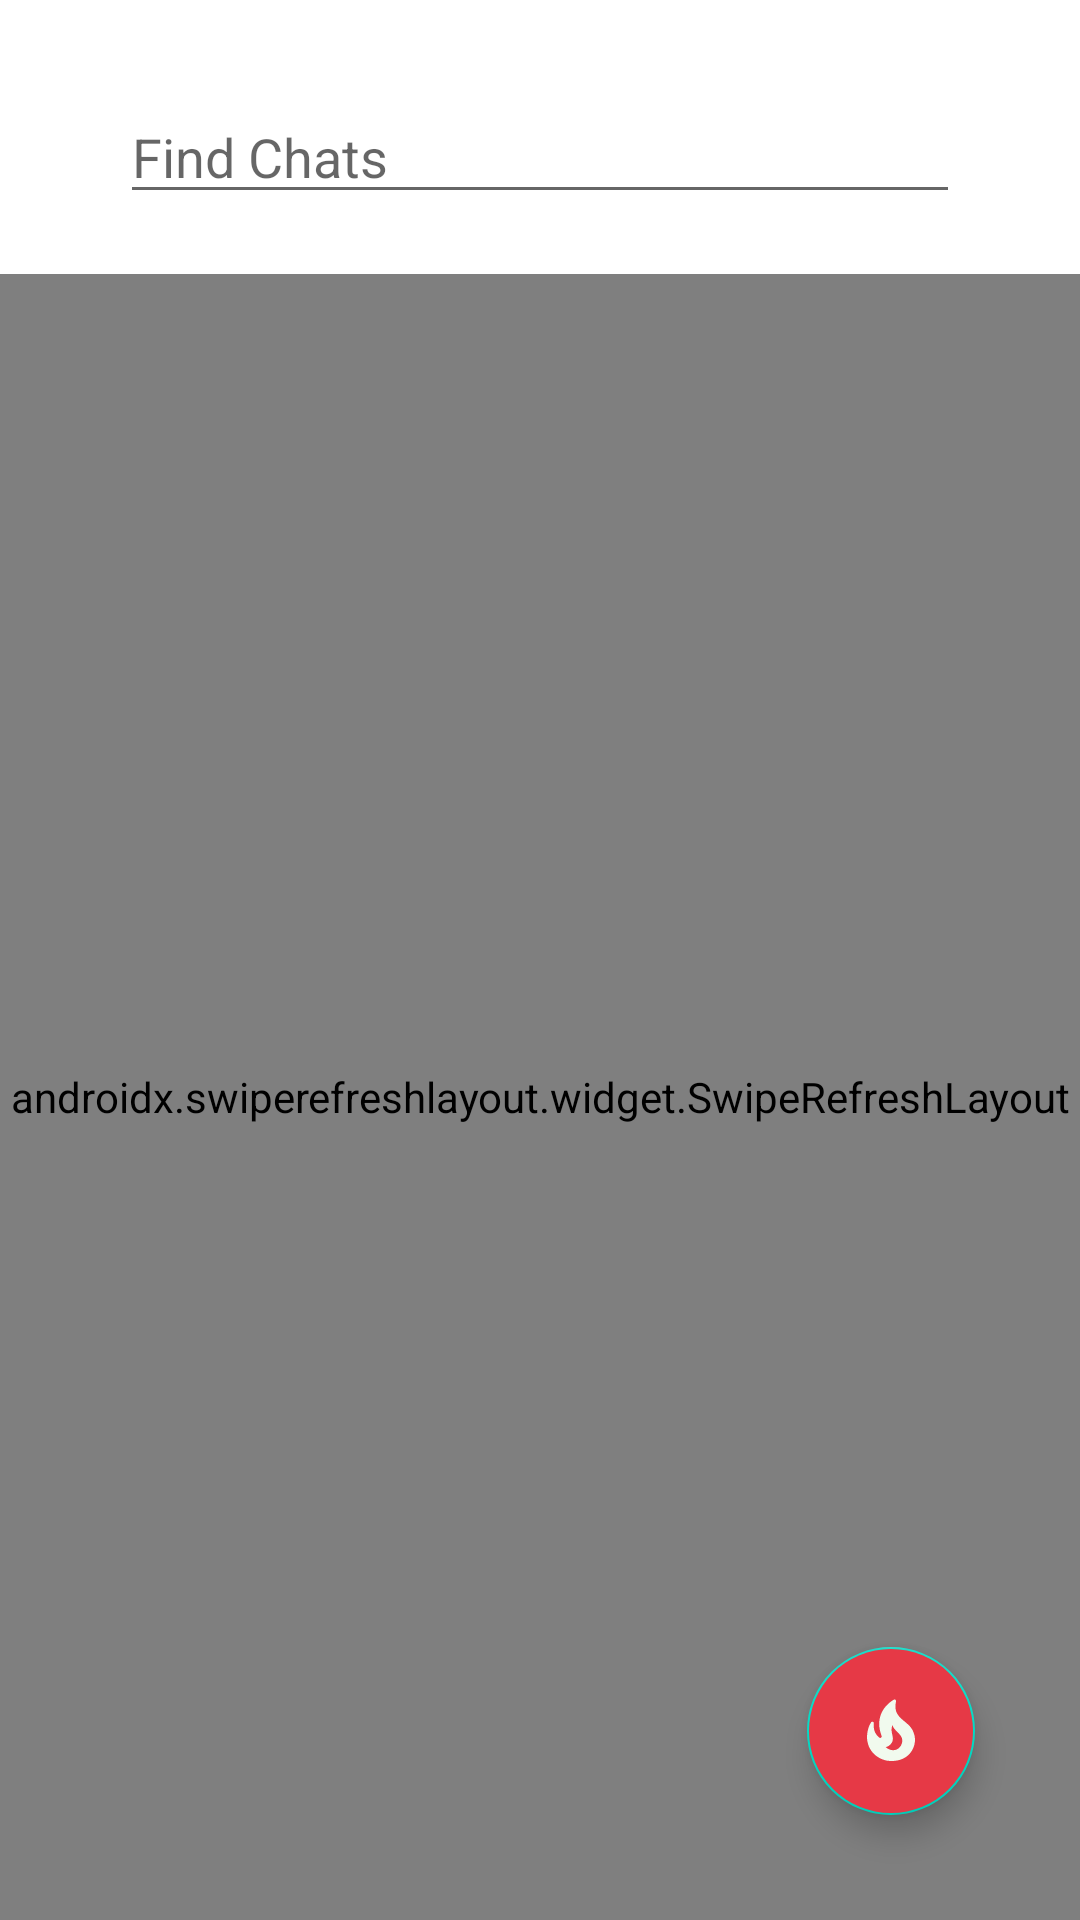

Where icons sit on this 1080 × 1920 app screen, as (x1, y1, x2, y2):
fire: (807, 1647, 975, 1815)
